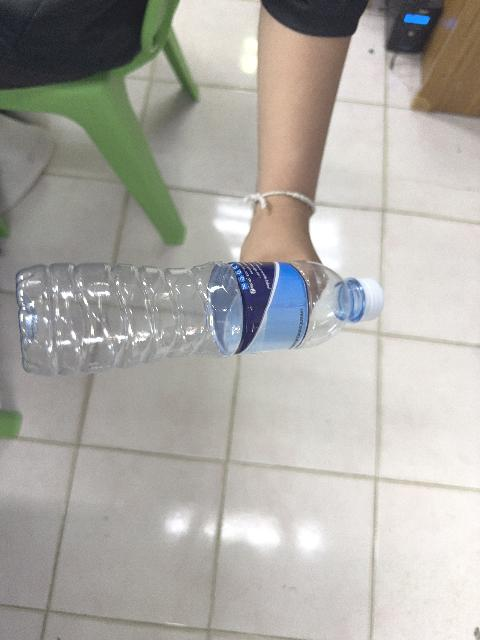bottle: (16, 262, 382, 375)
